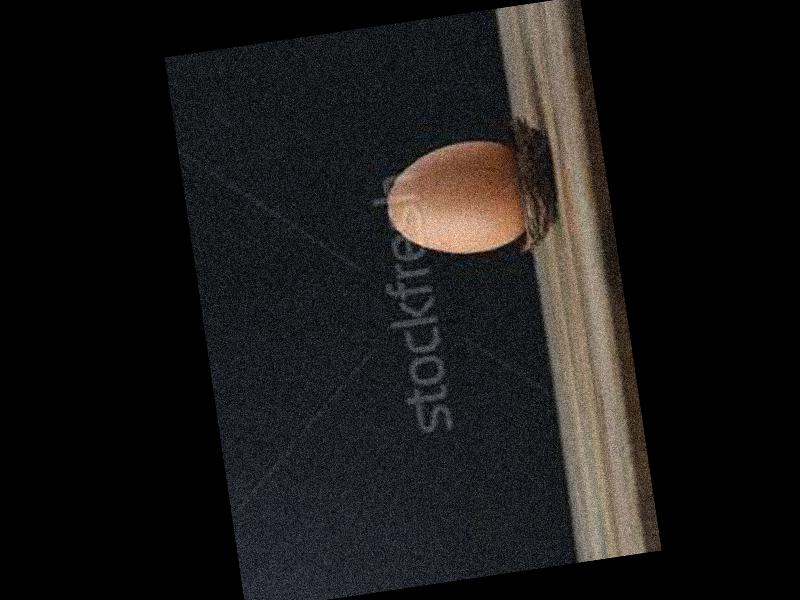Eggs: (380, 133, 530, 261)
